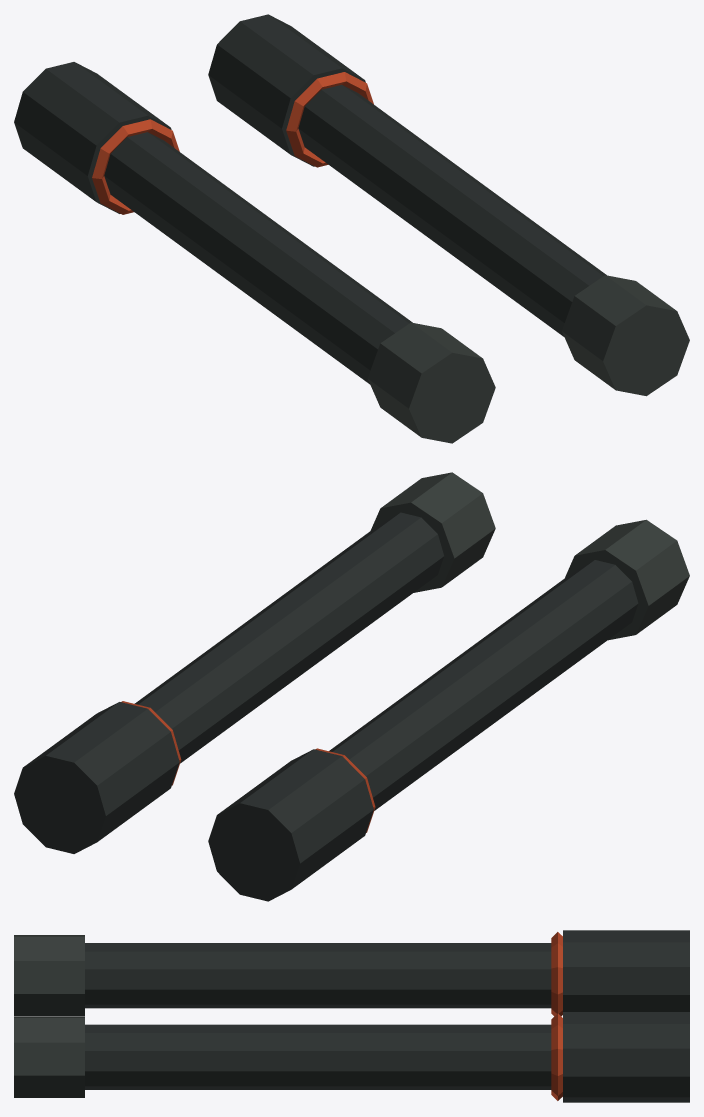
The model's file is Bastion_GunTower_WeaponPitch.obj.
The picture shows the model from 3 angles, top to bottom: view 1: azimuth 30°, elevation 25°; view 2: azimuth 150°, elevation 25°; view 3: azimuth 270°, elevation 25°; orthographic projection. The views are drawn at different scales.
Parts seen in each view (by area): view 1: Bastion_GunTower_WeaponPitch; view 2: Bastion_GunTower_WeaponPitch; view 3: Bastion_GunTower_WeaponPitch.
Boxes of the visible parts, bbox=[...] form: Bastion_GunTower_WeaponPitch: bbox=[14, 14, 689, 443]; Bastion_GunTower_WeaponPitch: bbox=[14, 472, 689, 901]; Bastion_GunTower_WeaponPitch: bbox=[14, 930, 689, 1102].
Bounding box in the file's own units: 1.12 × 0.3424 × 2.66.
1 material, 1 textured.
